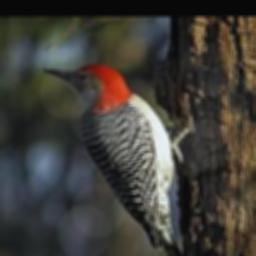Woodpecker: (43, 63, 188, 256)
